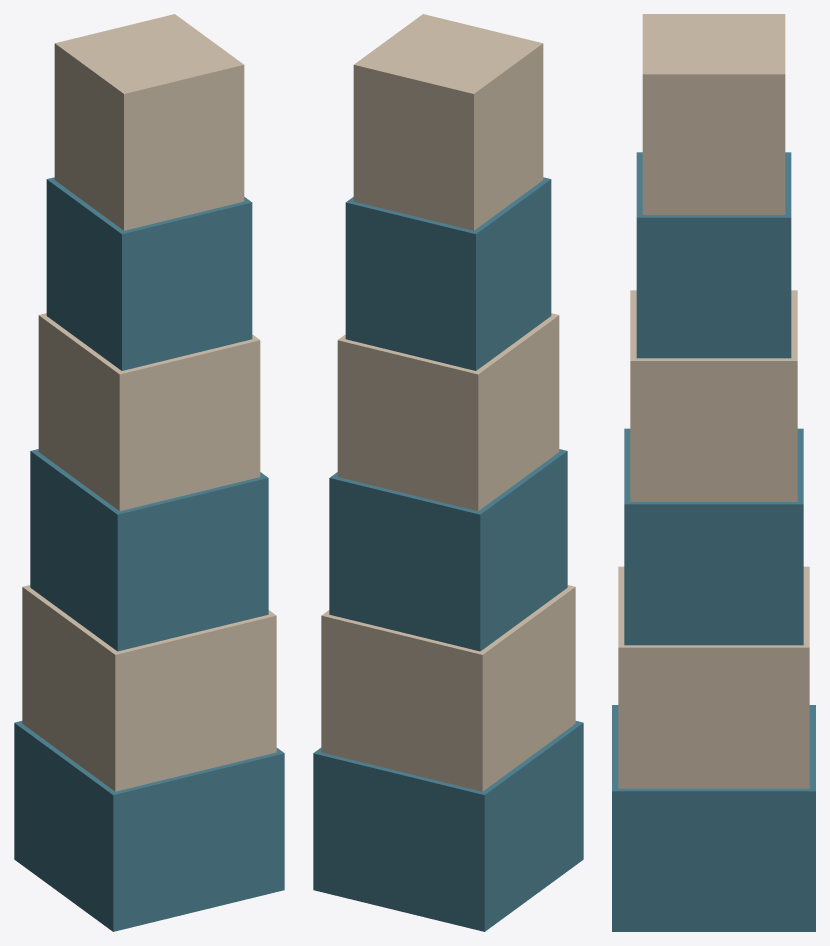
File: bh_waterfront_tower_a_01_lod0.glb
3 views of the same model, side by side, from view 1: azimuth 30°, elevation 25°; view 2: azimuth 150°, elevation 25°; view 3: azimuth 270°, elevation 25° (orthographic). The views are drawn at different scales.
Visible parts, largest first — view 1: bh_waterfront_tower_a_01_tier_00, bh_waterfront_tower_a_01_tier_01, bh_waterfront_tower_a_01_tier_05, bh_waterfront_tower_a_01_tier_02, bh_waterfront_tower_a_01_tier_03, bh_waterfront_tower_a_01_tier_04; view 2: bh_waterfront_tower_a_01_tier_00, bh_waterfront_tower_a_01_tier_01, bh_waterfront_tower_a_01_tier_05, bh_waterfront_tower_a_01_tier_02, bh_waterfront_tower_a_01_tier_03, bh_waterfront_tower_a_01_tier_04; view 3: bh_waterfront_tower_a_01_tier_00, bh_waterfront_tower_a_01_tier_05, bh_waterfront_tower_a_01_tier_01, bh_waterfront_tower_a_01_tier_02, bh_waterfront_tower_a_01_tier_03, bh_waterfront_tower_a_01_tier_04.
Part boxes in pixels (left/top/right/bottom): bh_waterfront_tower_a_01_tier_00: left=14, top=721, right=284, bottom=931; bh_waterfront_tower_a_01_tier_01: left=22, top=585, right=276, bottom=791; bh_waterfront_tower_a_01_tier_05: left=54, top=14, right=244, bottom=230; bh_waterfront_tower_a_01_tier_02: left=30, top=449, right=268, bottom=651; bh_waterfront_tower_a_01_tier_03: left=38, top=313, right=260, bottom=510; bh_waterfront_tower_a_01_tier_04: left=46, top=177, right=252, bottom=370; bh_waterfront_tower_a_01_tier_00: left=313, top=721, right=583, bottom=931; bh_waterfront_tower_a_01_tier_01: left=321, top=585, right=575, bottom=791; bh_waterfront_tower_a_01_tier_05: left=353, top=14, right=543, bottom=230; bh_waterfront_tower_a_01_tier_02: left=329, top=449, right=567, bottom=651; bh_waterfront_tower_a_01_tier_03: left=337, top=313, right=559, bottom=510; bh_waterfront_tower_a_01_tier_04: left=345, top=177, right=551, bottom=370; bh_waterfront_tower_a_01_tier_00: left=612, top=705, right=815, bottom=931; bh_waterfront_tower_a_01_tier_05: left=642, top=14, right=785, bottom=214; bh_waterfront_tower_a_01_tier_01: left=618, top=566, right=809, bottom=788; bh_waterfront_tower_a_01_tier_02: left=624, top=428, right=803, bottom=645; bh_waterfront_tower_a_01_tier_03: left=630, top=290, right=797, bottom=501; bh_waterfront_tower_a_01_tier_04: left=636, top=152, right=791, bottom=358.
Size of the model in its own units: 7 by 32 by 7.
